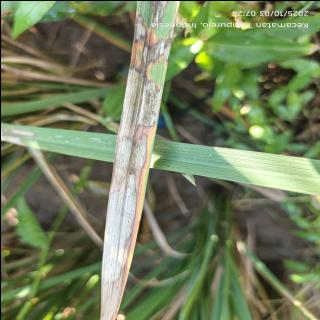Blast: (99, 132, 147, 320), (115, 25, 172, 140), (142, 1, 172, 27)
